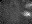person: (21, 8, 31, 16), (26, 1, 31, 5)
